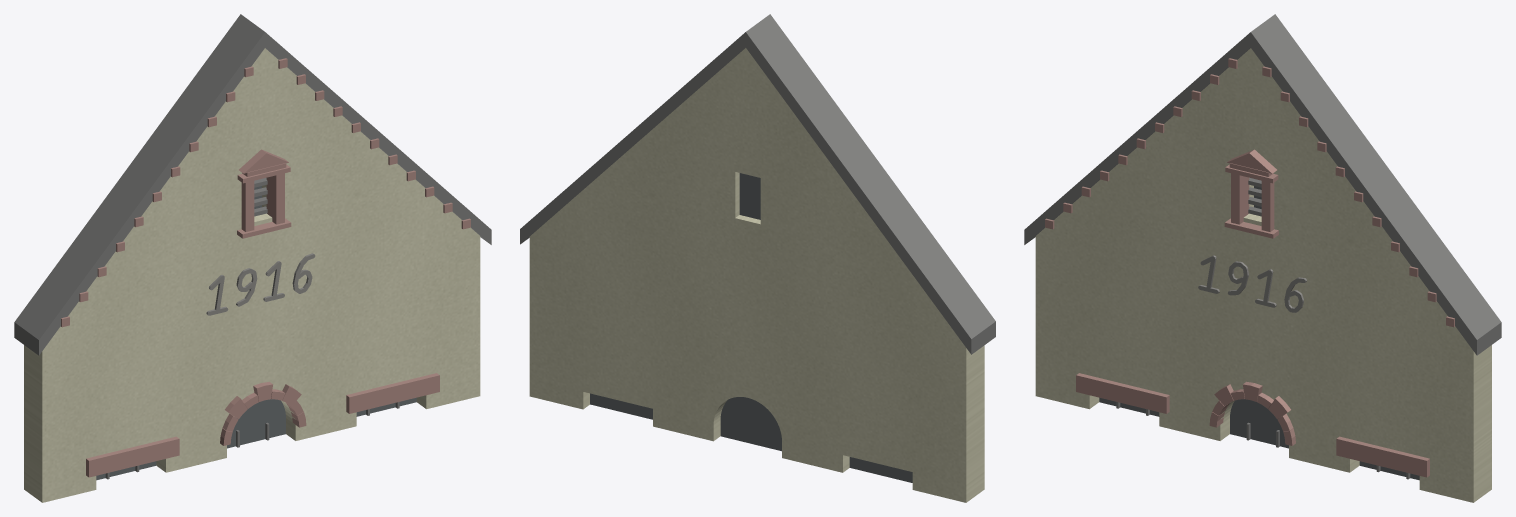
The model's file is jikui-school-1916-gable-far.glb.
3 views of the same model, side by side, from view 1: azimuth 30°, elevation 25°; view 2: azimuth 150°, elevation 25°; view 3: azimuth 330°, elevation 25° (orthographic).
Visible parts, largest first — view 1: 缉槼中学教学楼山墙1916纪年与百叶通风口; view 2: 缉槼中学教学楼山墙1916纪年与百叶通风口; view 3: 缉槼中学教学楼山墙1916纪年与百叶通风口.
Part boxes in pixels (left/top/right/bottom): 缉槼中学教学楼山墙1916纪年与百叶通风口: left=14, top=14, right=491, bottom=502; 缉槼中学教学楼山墙1916纪年与百叶通风口: left=520, top=14, right=995, bottom=502; 缉槼中学教学楼山墙1916纪年与百叶通风口: left=1024, top=14, right=1501, bottom=502.
Bounding box in the file's own units: 3.06 × 2.72 × 0.307.
5 materials, 1 textured.
